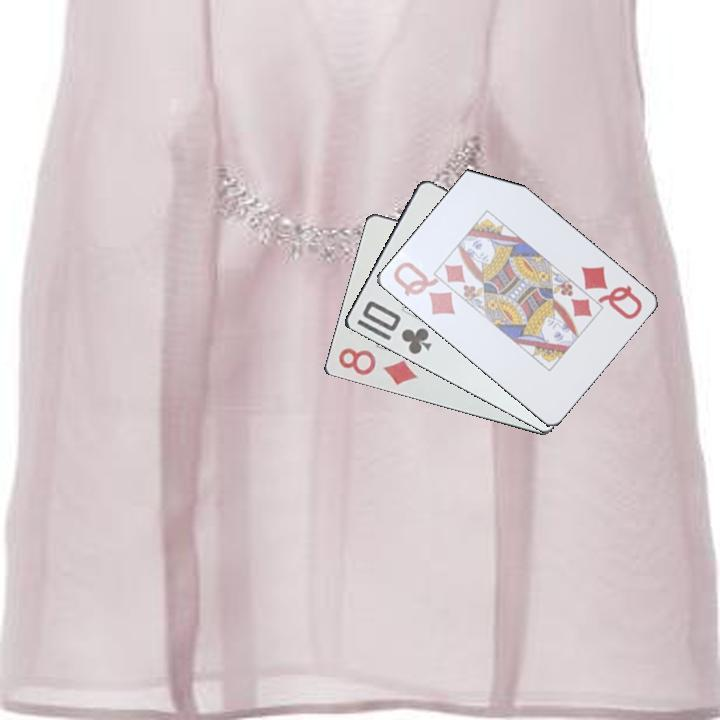8d: (334, 344, 420, 389)
Qd: (576, 262, 645, 323), (389, 258, 458, 318)
Tc: (358, 297, 435, 358)
